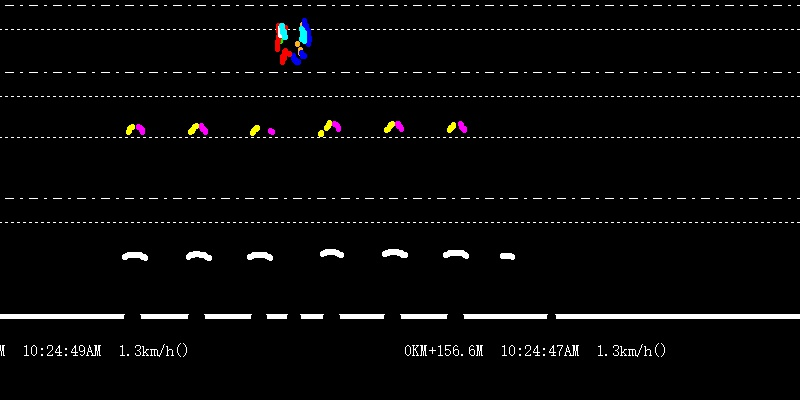J: (273, 1, 315, 64)
y_p: (100, 110, 480, 267)
